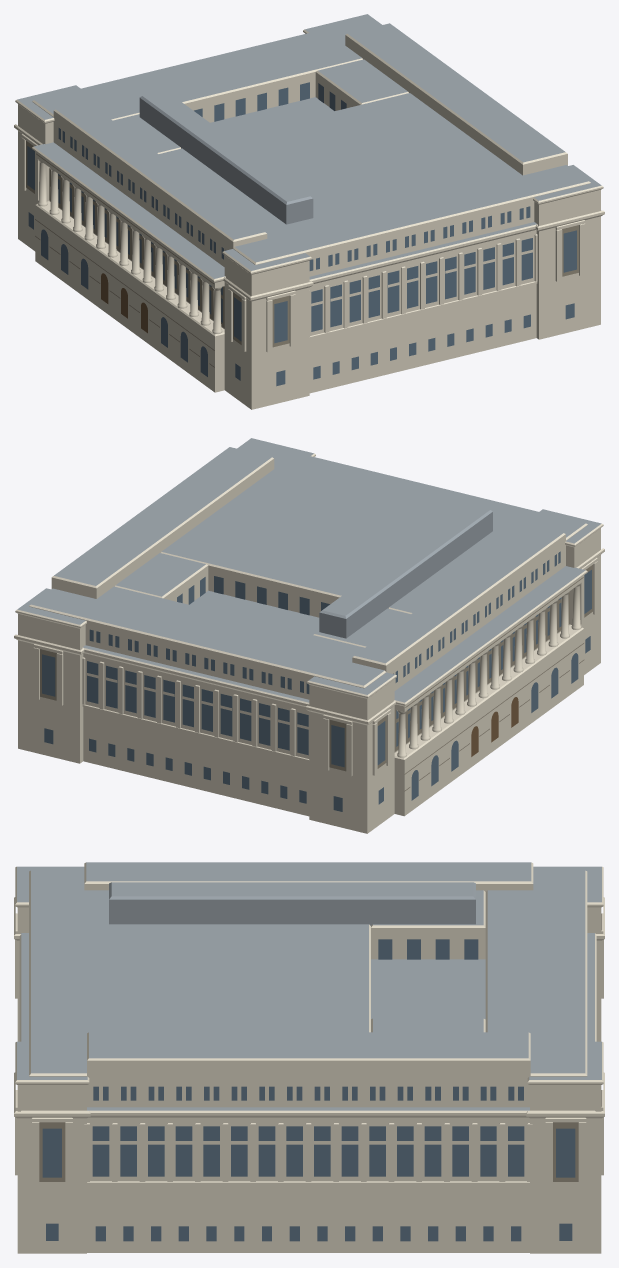
File: cin-hamilton-county-courthouse.glb
3 views of the same model, one above another, from view 1: azimuth 30°, elevation 25°; view 2: azimuth 150°, elevation 25°; view 3: azimuth 270°, elevation 25° (orthographic). The views are drawn at different scales.
Parts seen in each view (by area): view 1: Hamilton County Courthouse; view 2: Hamilton County Courthouse; view 3: Hamilton County Courthouse.
Boxes of the visible parts, <box> form: Hamilton County Courthouse: <box>14,14,604,409</box>; Hamilton County Courthouse: <box>14,438,604,833</box>; Hamilton County Courthouse: <box>14,862,604,1253</box>.
Bounding box in the file's own units: 81.55 × 34.8 × 91.8.
